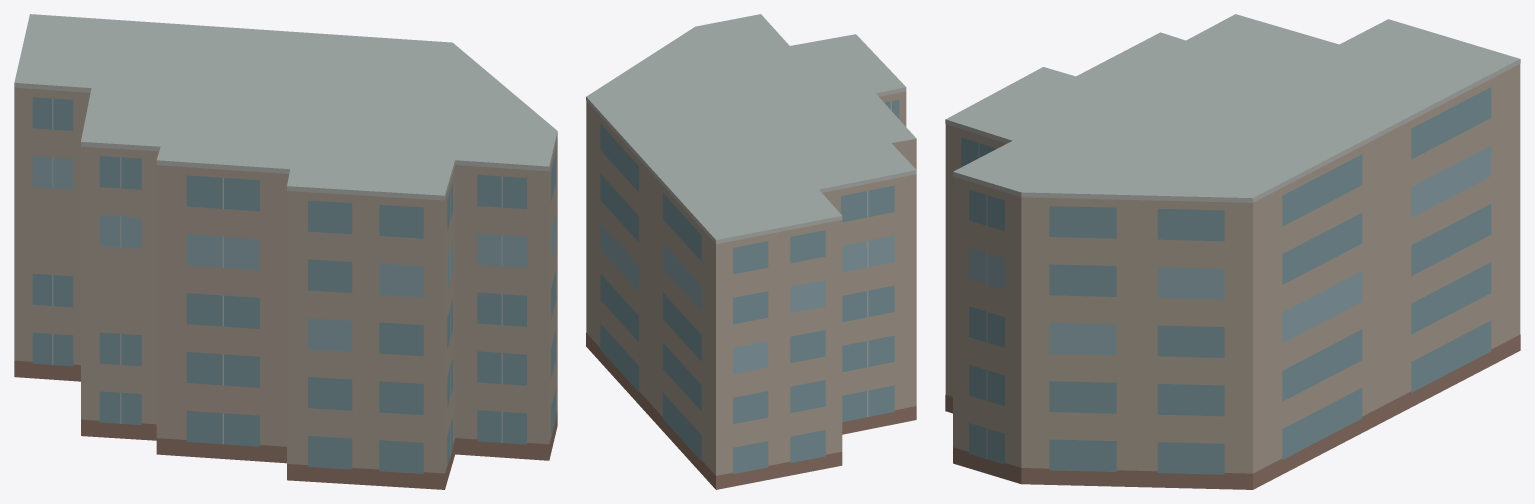
The model's file is survey-upis-32634670.glb.
The picture shows the model from 3 angles, left to right: view 1: azimuth 30°, elevation 25°; view 2: azimuth 150°, elevation 25°; view 3: azimuth 270°, elevation 25°; orthographic projection. The views are drawn at different scales.
Visible parts, largest first — view 1: survey-upis-32634670.tmp; view 2: survey-upis-32634670.tmp; view 3: survey-upis-32634670.tmp.
Boxes of the visible parts, x1=… form: survey-upis-32634670.tmp: x1=14, y1=14, x2=557, y2=489; survey-upis-32634670.tmp: x1=586, y1=14, x2=916, y2=489; survey-upis-32634670.tmp: x1=945, y1=14, x2=1520, y2=489.
Size of the model in its own units: 20.13 by 14.86 by 26.55.
